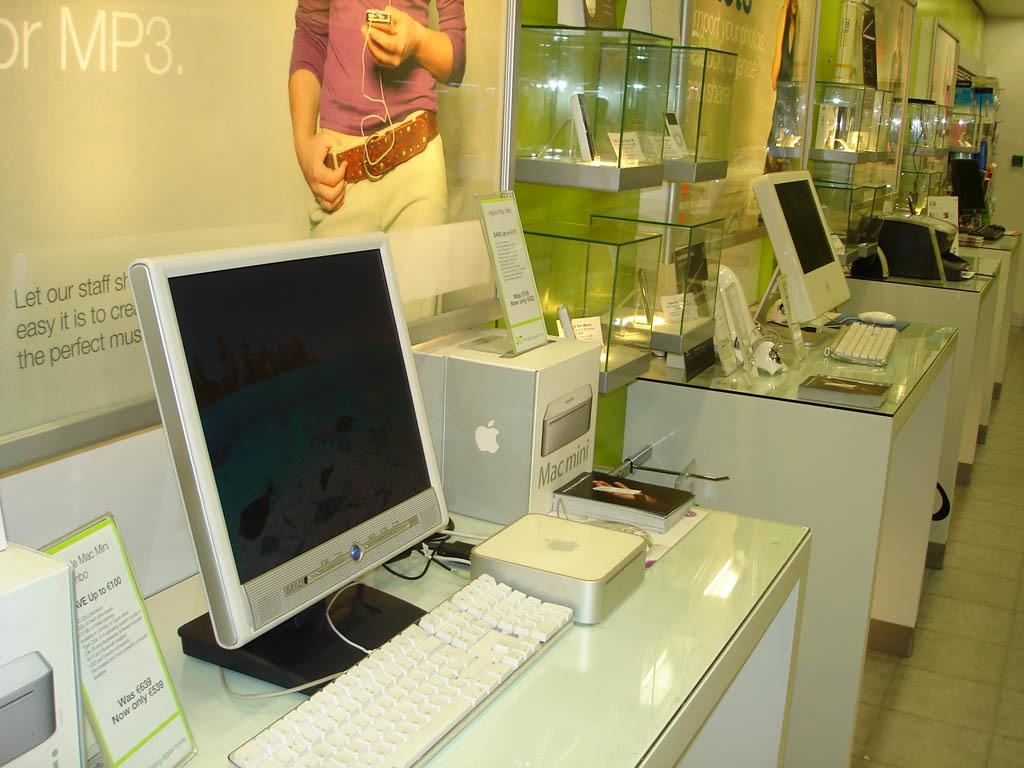Computer-keyboard: (227, 571, 574, 766)
Computer-monitor: (125, 230, 453, 693)
